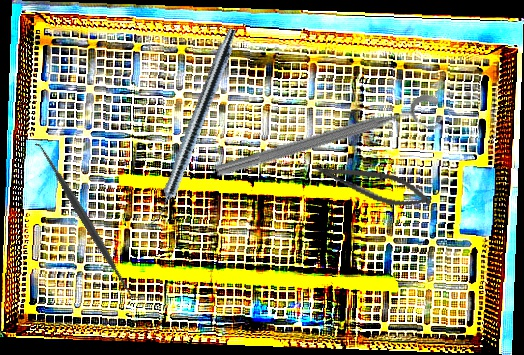Fixation Ring: (212, 91, 447, 196)
Handpiece: (144, 25, 241, 233)
Micro Scissor: (310, 156, 435, 215)
Spatula Surgical: (30, 136, 144, 307)
